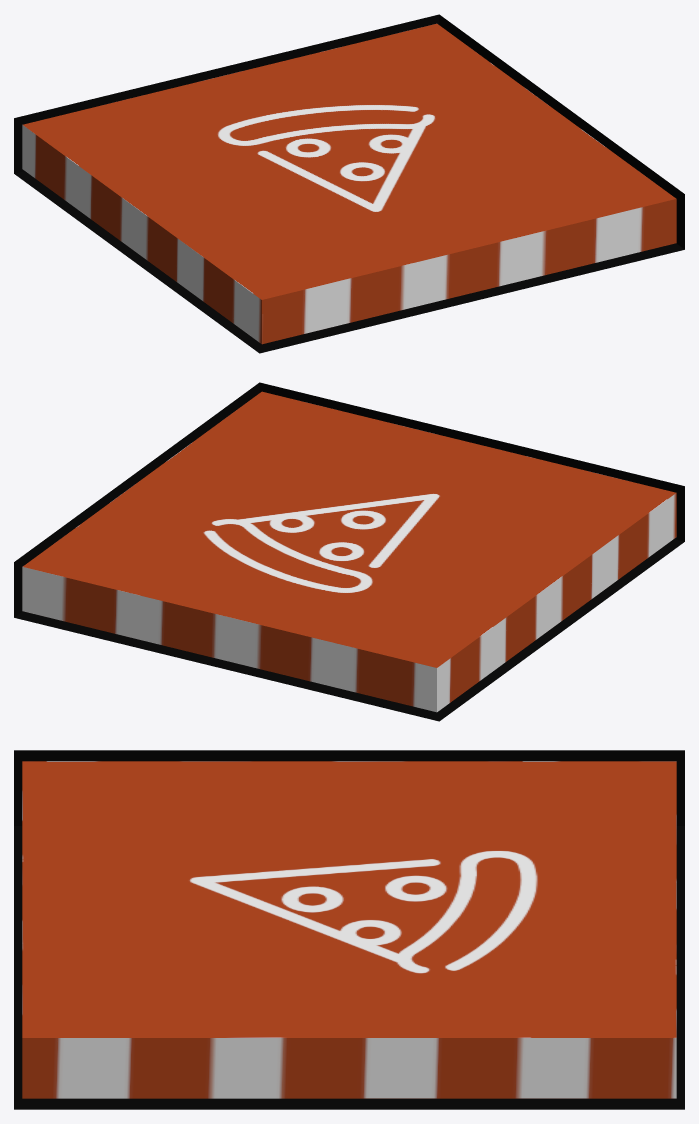
File: Caixa de Pizza.fbx
3 renders of one model, top to bottom at view 1: azimuth 30°, elevation 25°; view 2: azimuth 150°, elevation 25°; view 3: azimuth 270°, elevation 25°, orthographic. The views are drawn at different scales.
Parts seen in each view (by area): view 1: caixa de pizza, backfacecaixa; view 2: caixa de pizza, backfacecaixa; view 3: caixa de pizza, backfacecaixa.
Part boxes in pixels (x1,y1,x2,y2): caixa de pizza: [22, 23, 676, 344]; backfacecaixa: [14, 14, 684, 353]; caixa de pizza: [22, 391, 676, 712]; backfacecaixa: [14, 382, 684, 721]; caixa de pizza: [22, 761, 676, 1098]; backfacecaixa: [14, 750, 684, 1109].
Size of the model in its own units: 0.6892 by 0.6892 by 0.086.
Materials: 2 (1 with a texture image).
